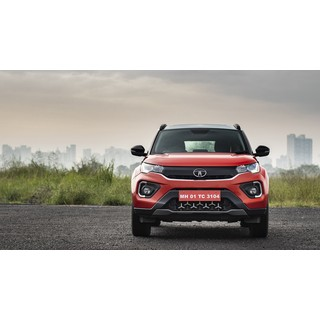car: (130, 123, 270, 238)
